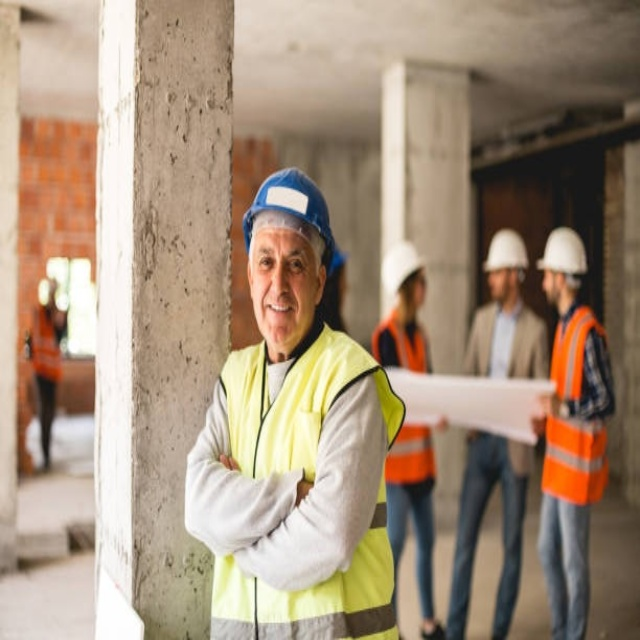Sin_gafas: (251, 242, 311, 276)
Sin_mascara: (259, 290, 301, 334)
